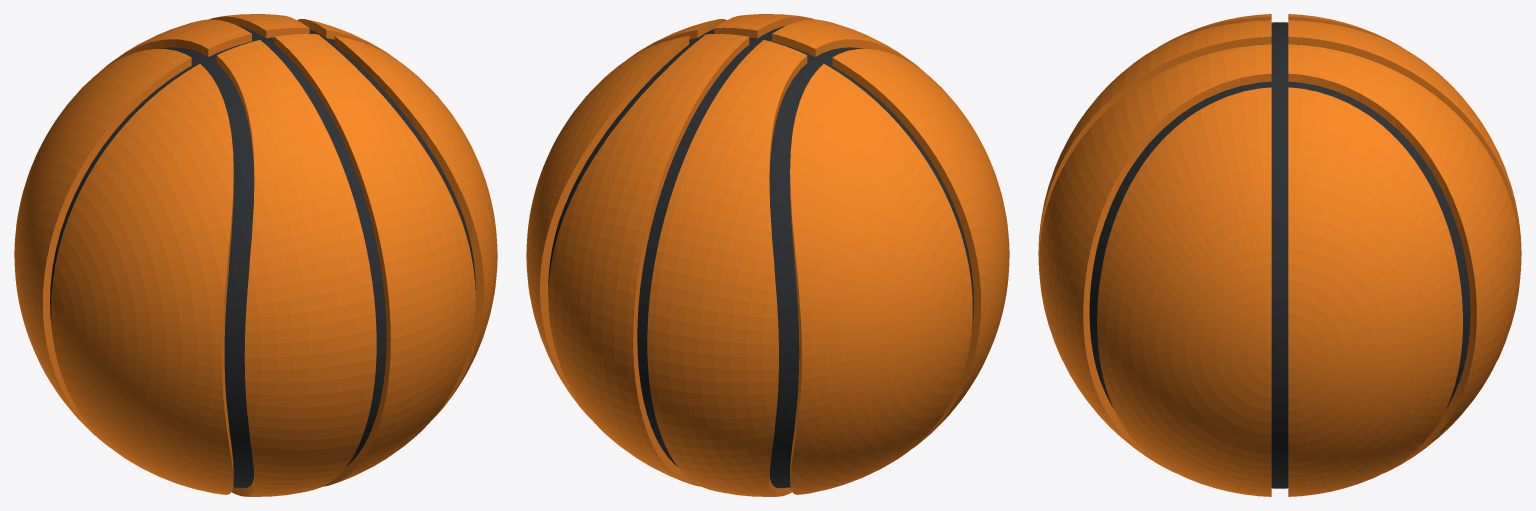
The model's file is tinker.obj.
The picture shows the model from 3 angles, left to right: view 1: azimuth 30°, elevation 25°; view 2: azimuth 150°, elevation 25°; view 3: azimuth 270°, elevation 25°; orthographic projection.
Parts seen in each view (by area): view 1: group_0_16089887, group_0_2829873; view 2: group_0_16089887, group_0_2829873; view 3: group_0_16089887, group_0_2829873.
Boxes of the visible parts, x1,y1,x2,y2 form: group_0_16089887: [14, 14, 497, 496]; group_0_2829873: [50, 26, 475, 488]; group_0_16089887: [526, 14, 1009, 496]; group_0_2829873: [548, 26, 973, 488]; group_0_16089887: [1038, 14, 1521, 496]; group_0_2829873: [1089, 22, 1470, 488].
Bounding box in the file's own units: 57.93 × 57.93 × 57.97.
